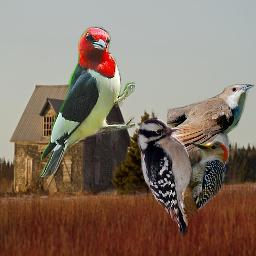Cuckoo: (167, 84, 254, 151)
Woodpecker: (36, 26, 135, 177), (137, 119, 206, 236), (180, 137, 238, 217)
